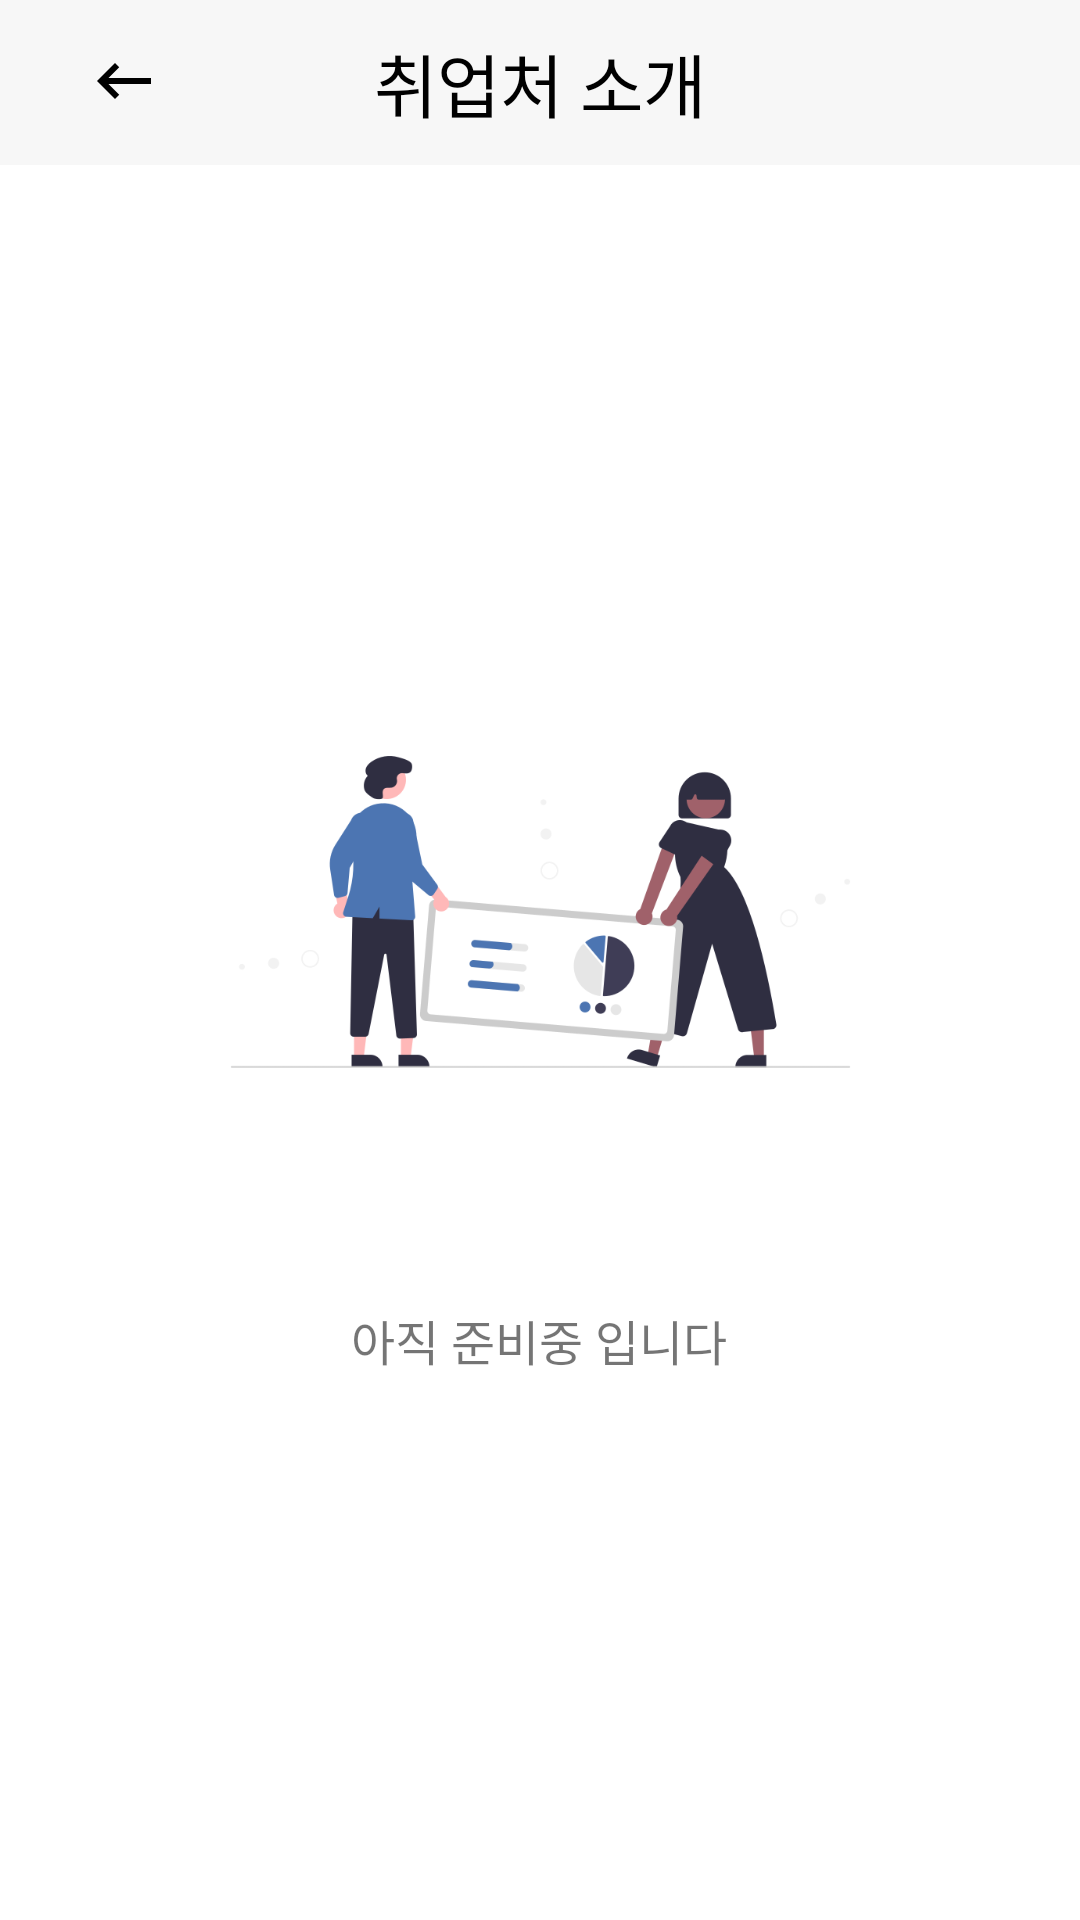

Named icons in this screenshot (1080w x 1920h) and their bounding boxes, (x1, y1, x2, y2):
keyboard backspace: (97, 63, 151, 99)
